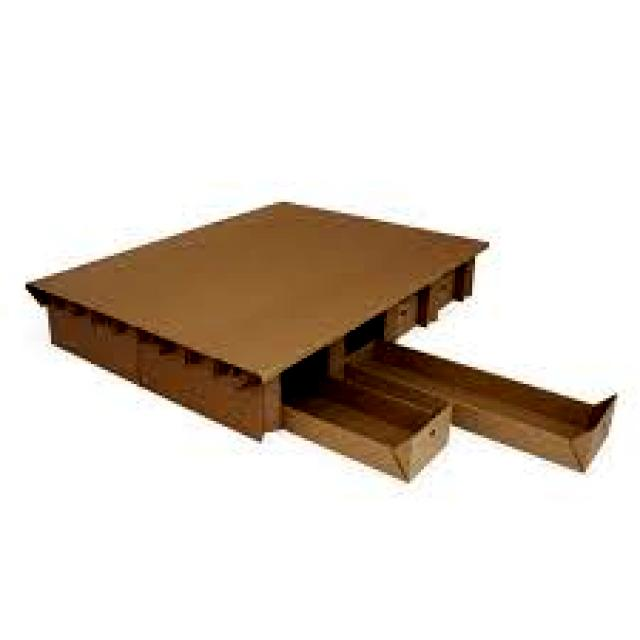Cardboard: (34, 198, 616, 484)
